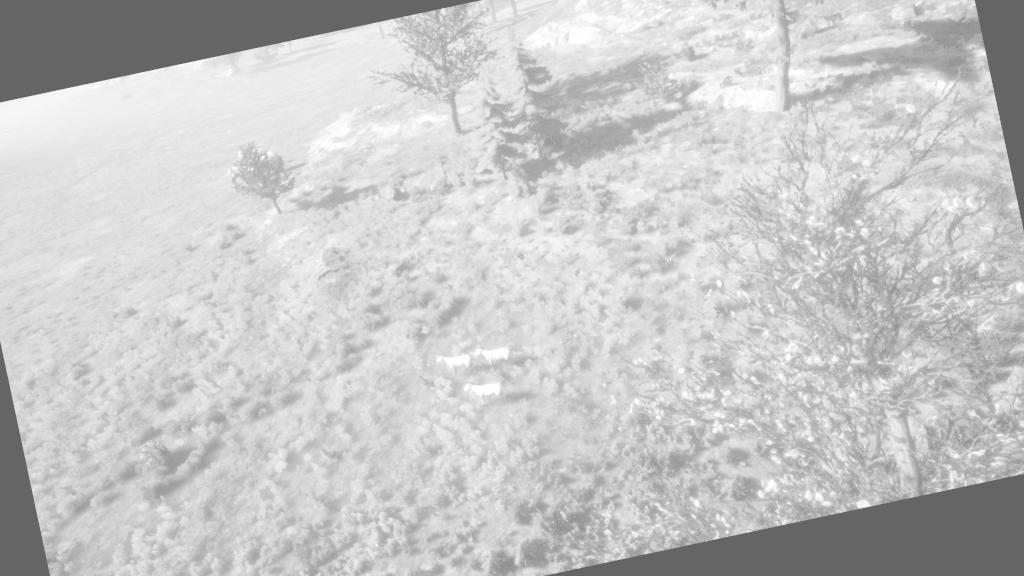zebra: (473, 338, 517, 373), (434, 345, 478, 379), (463, 376, 508, 407)
